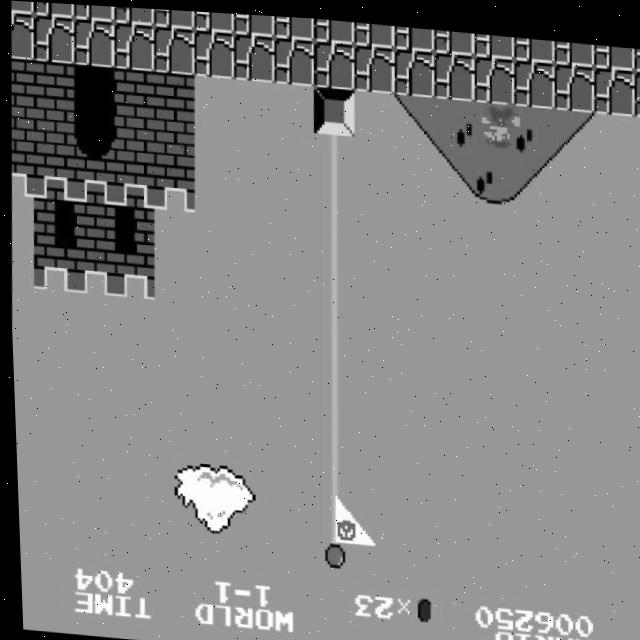1- brick_block: (31, 60, 75, 109)
11- little_mario: (477, 93, 523, 145)
17- undestructible_block: (591, 60, 636, 109), (551, 56, 596, 105), (511, 53, 556, 102), (471, 50, 516, 99), (431, 47, 476, 96), (391, 43, 436, 92), (351, 40, 396, 89), (311, 37, 356, 86), (271, 34, 315, 83), (231, 30, 275, 79), (191, 27, 235, 76), (151, 24, 195, 73), (111, 21, 155, 70), (71, 17, 115, 66), (31, 14, 75, 63), (9, 12, 35, 60), (592, 37, 635, 63), (552, 34, 595, 60), (512, 31, 555, 57), (472, 27, 515, 53), (432, 24, 475, 50), (392, 21, 435, 47), (352, 17, 395, 43), (312, 15, 355, 41), (272, 13, 315, 37), (232, 11, 275, 34), (192, 9, 235, 30), (152, 7, 195, 27), (112, 5, 154, 24), (72, 3, 114, 20), (32, 1, 74, 17), (632, 62, 640, 110), (10, 0, 33, 15), (633, 40, 640, 64)
7- goal_pole: (308, 539, 353, 588), (308, 493, 353, 542), (309, 356, 354, 405), (309, 402, 354, 450), (310, 311, 354, 360), (310, 219, 354, 268), (311, 128, 355, 177), (309, 448, 353, 496), (310, 266, 354, 314), (311, 174, 355, 222)
9- hard_block: (311, 82, 355, 131)
